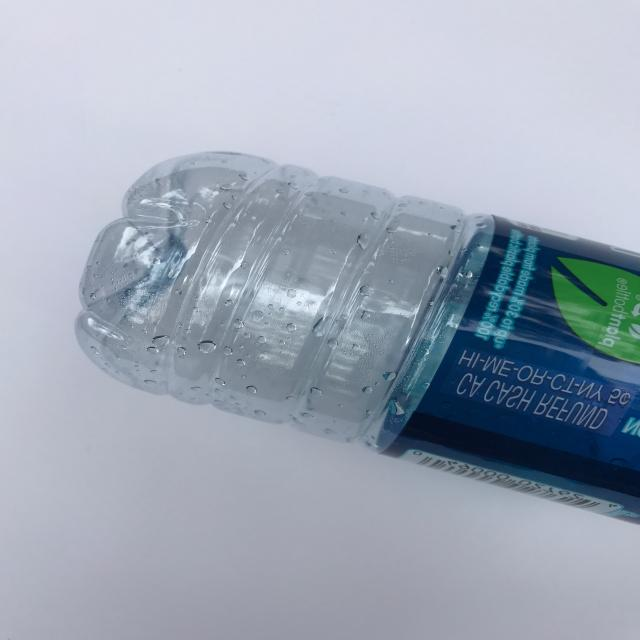plastic: (74, 149, 640, 523)
